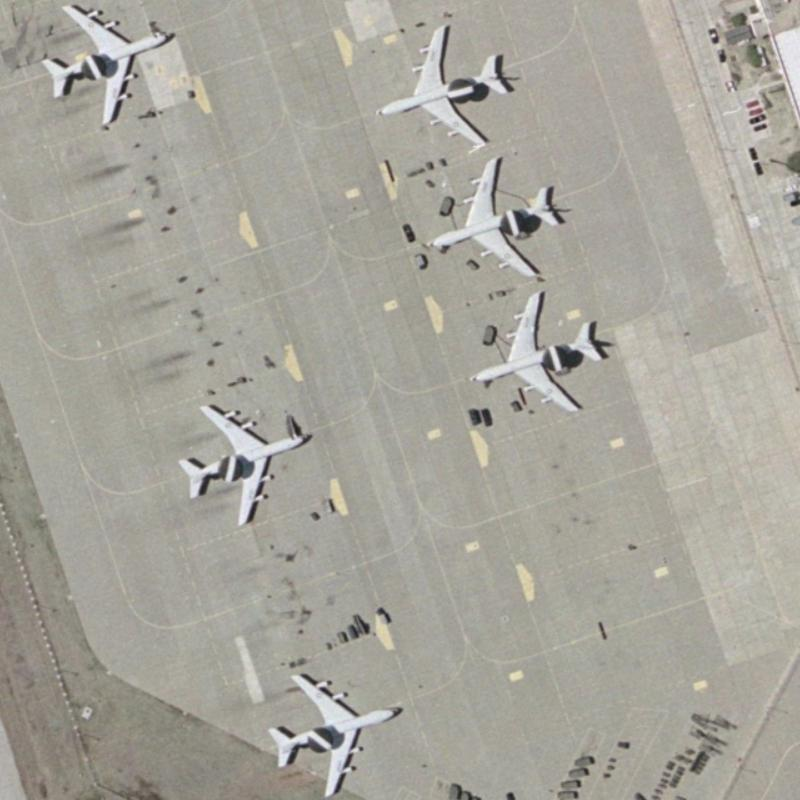A7: (461, 283, 612, 421), (417, 149, 571, 284), (171, 394, 317, 532), (261, 661, 407, 799), (376, 10, 513, 153), (38, 2, 175, 130)
